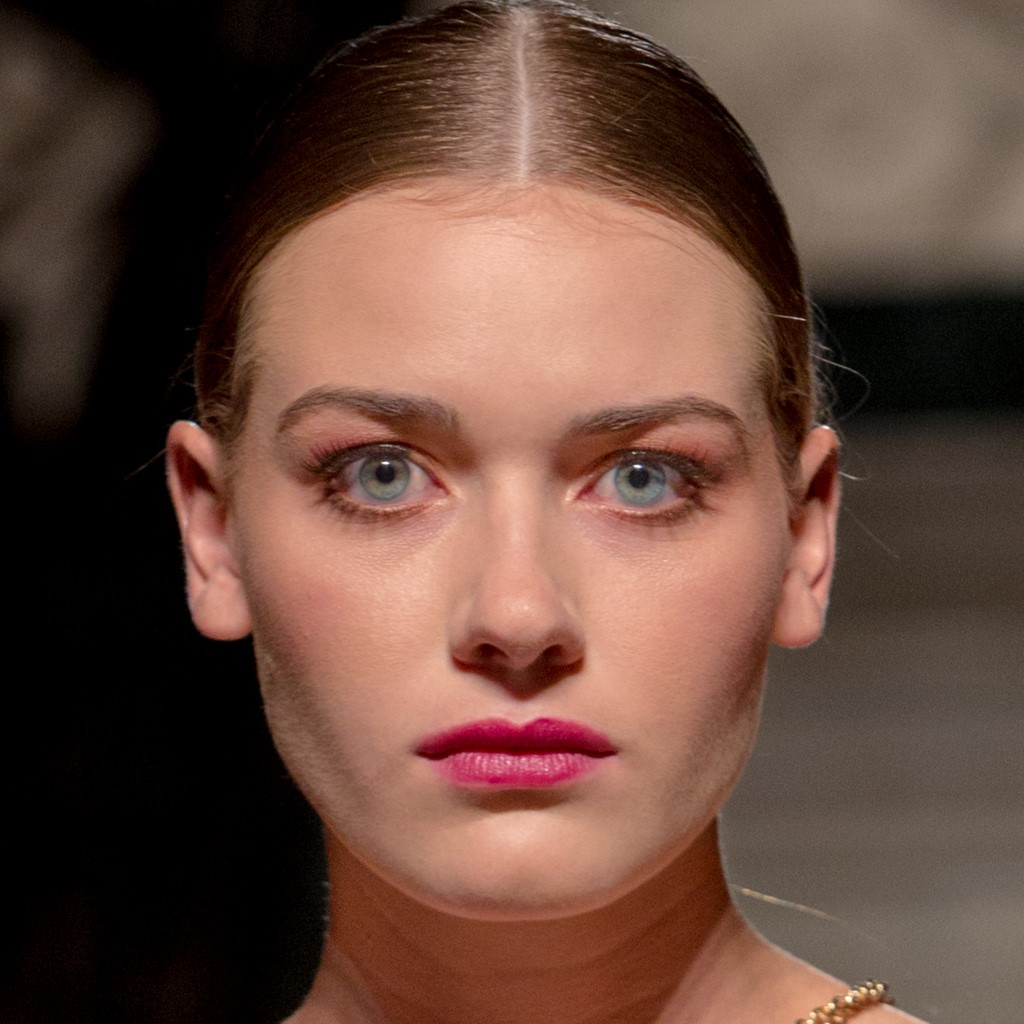sin_mascara: (228, 123, 787, 945)
